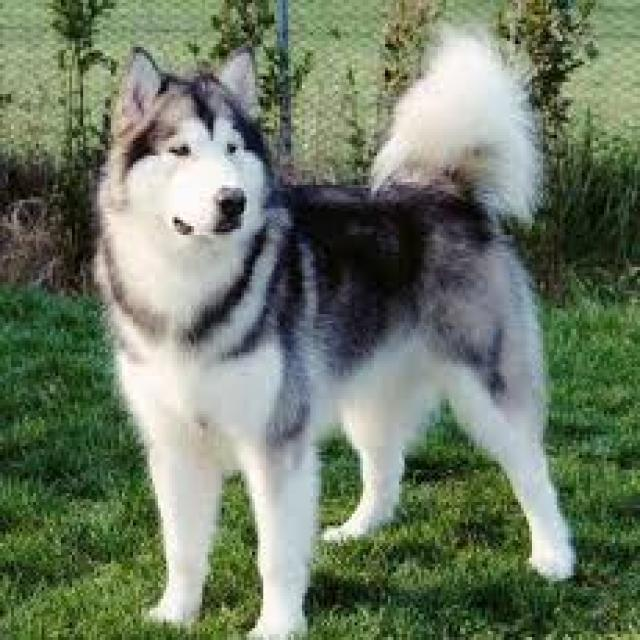ALASKAN_MALAMUTE: (66, 29, 592, 640)
